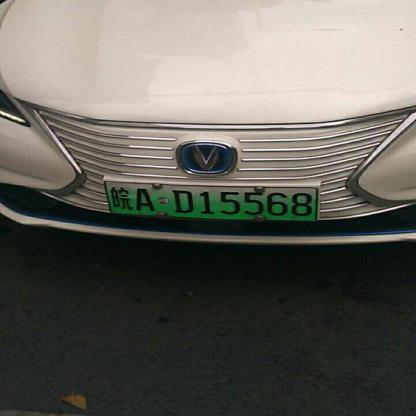lp: (103, 181, 318, 220)
